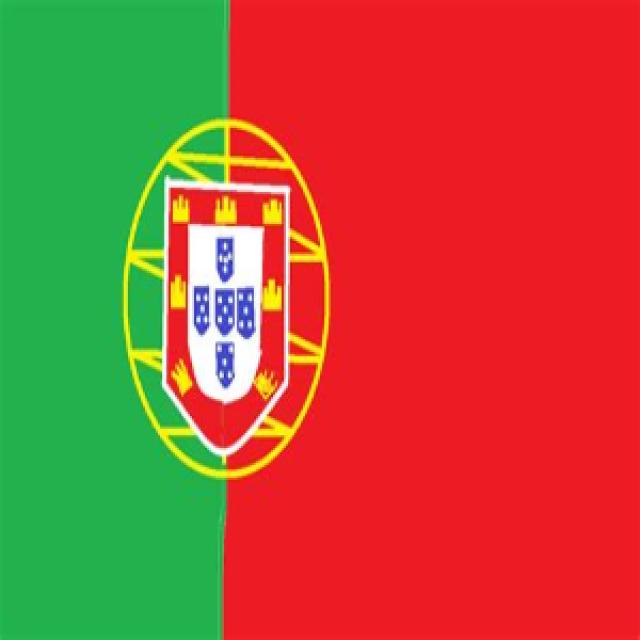portugal: (8, 17, 640, 580)
